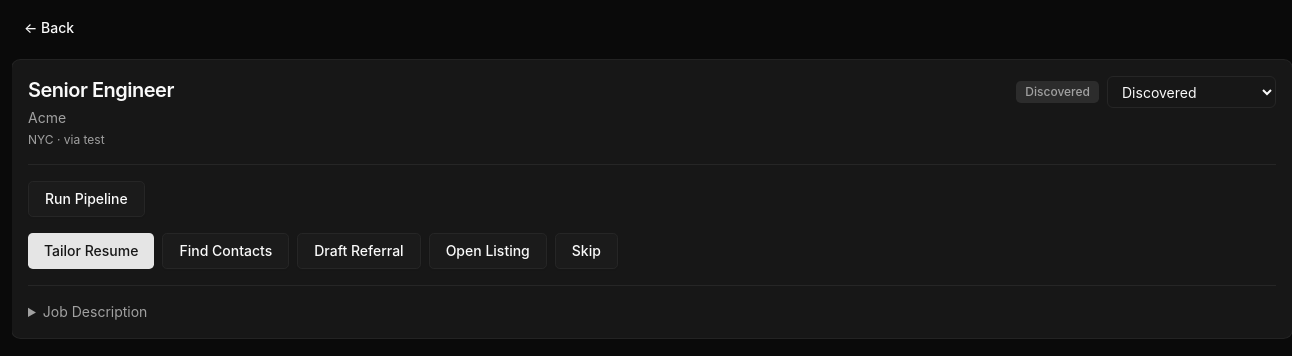
Test: JobDetail › runs resume generation then referral drafting when Run Pipeline is clicked
What coordinates should you click on to do the following:
click the button "Run Pipeline"
I would click on:
 (86, 199)
Its box is [28,181,145,217].
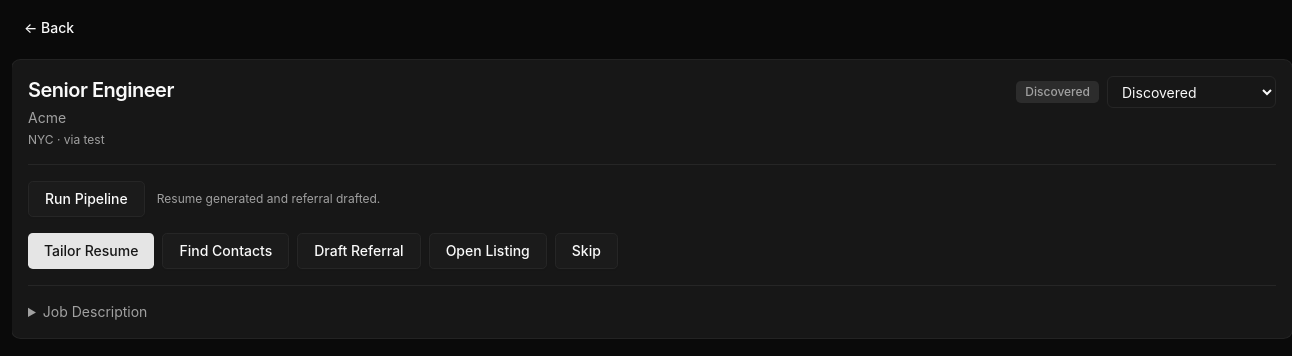
Expected: the text "Resume generated and referral drafted." is shown, [157,191,380,207]
